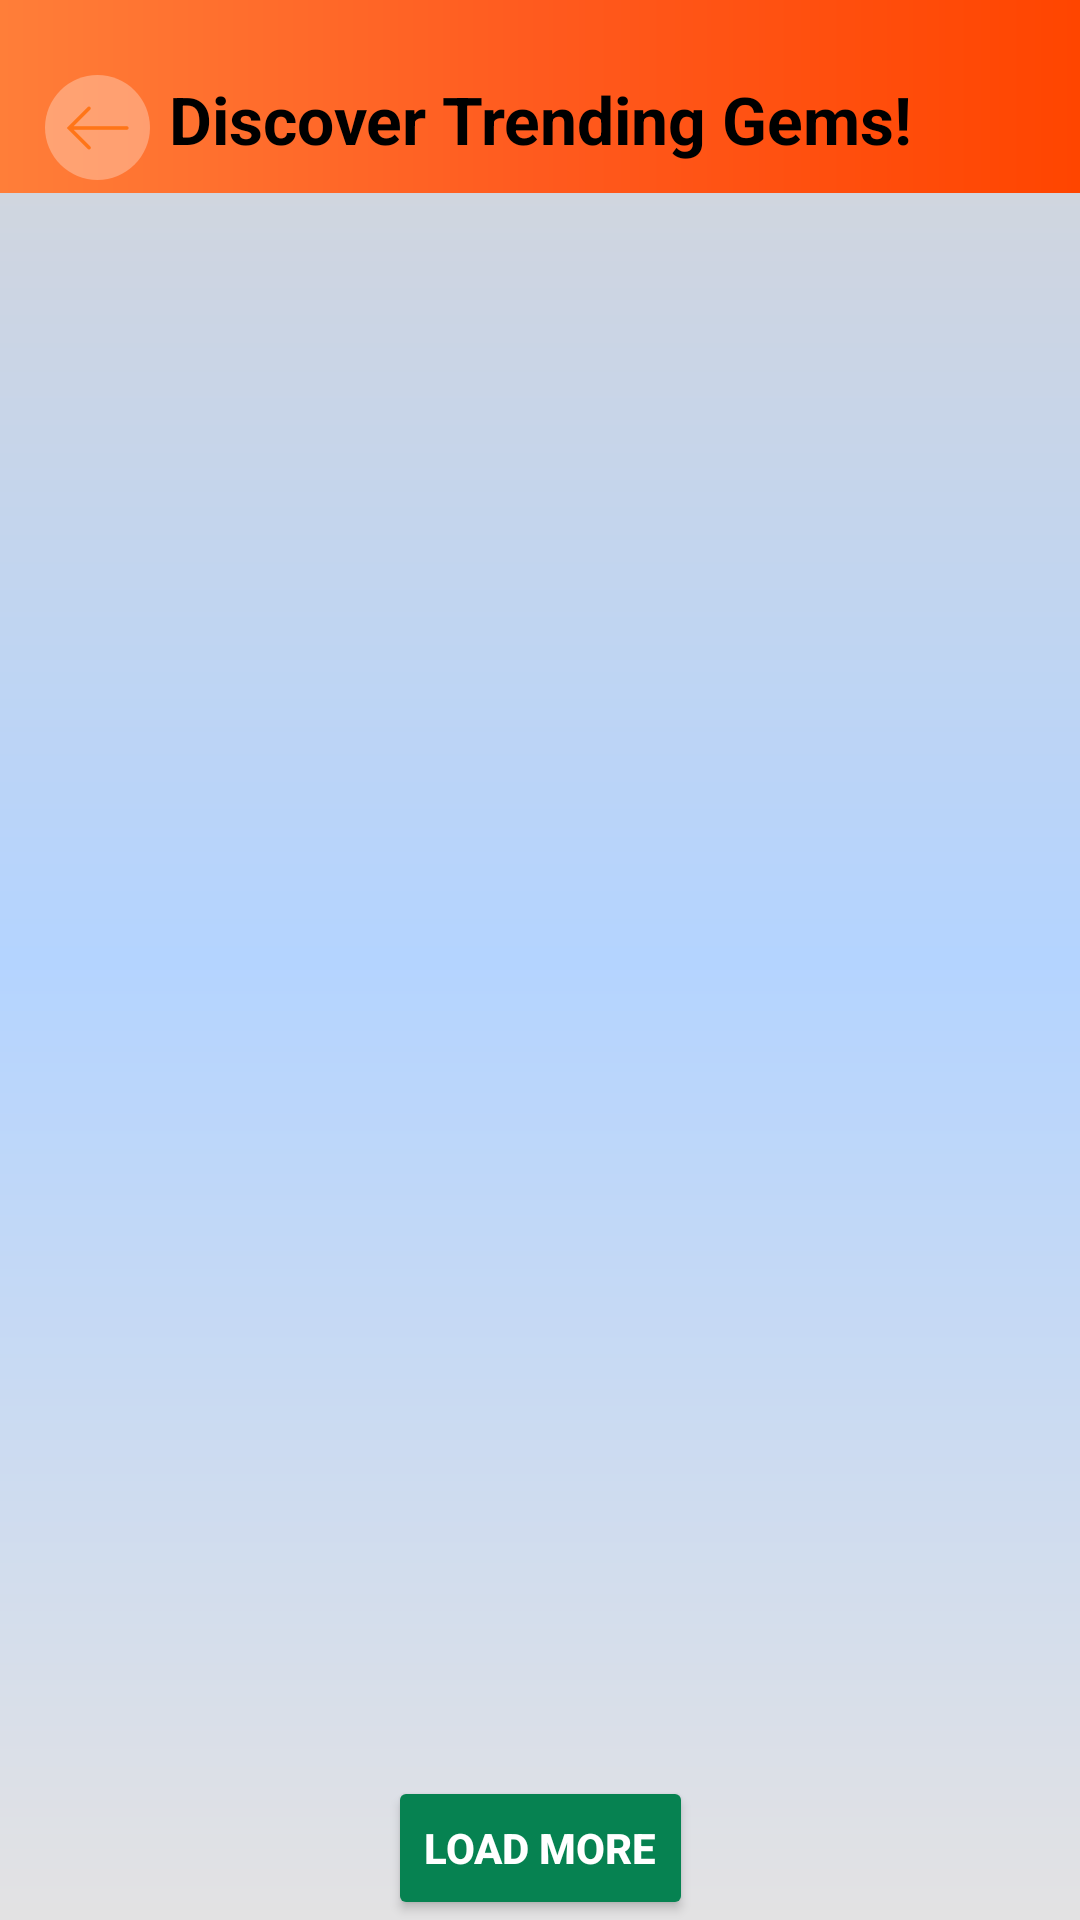

Point at icon controls on the screen. Image size 1080px×1920px, points as [x,y].
Go Back: [97,127]
